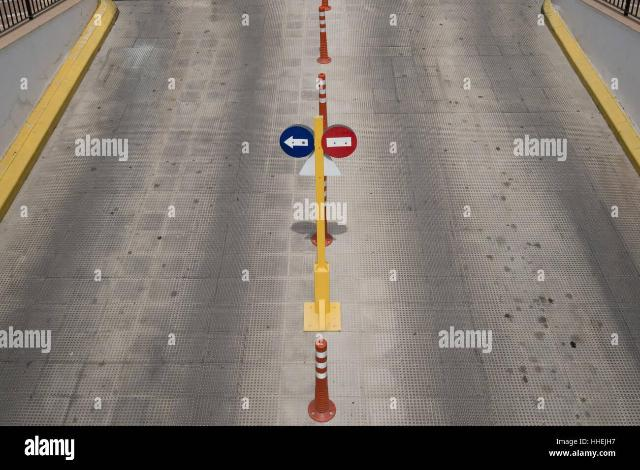B2: (320, 124, 358, 158)
